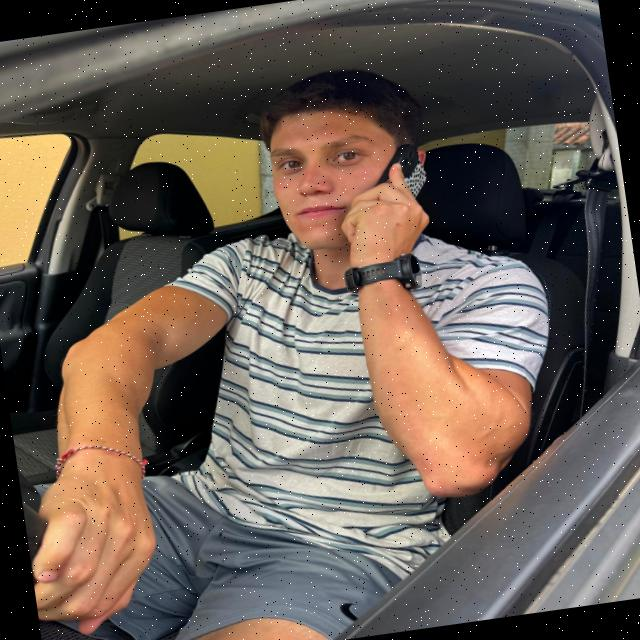Phone: (370, 139, 436, 207)
